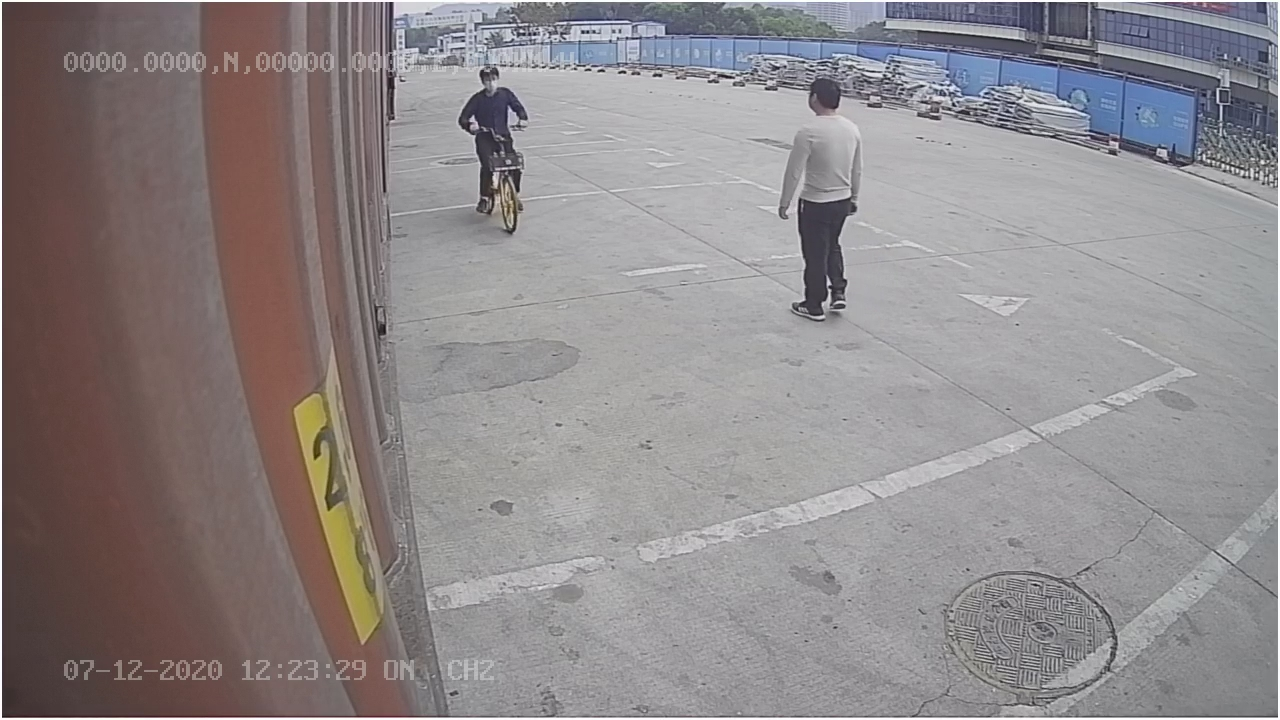person: (772, 72, 865, 324)
